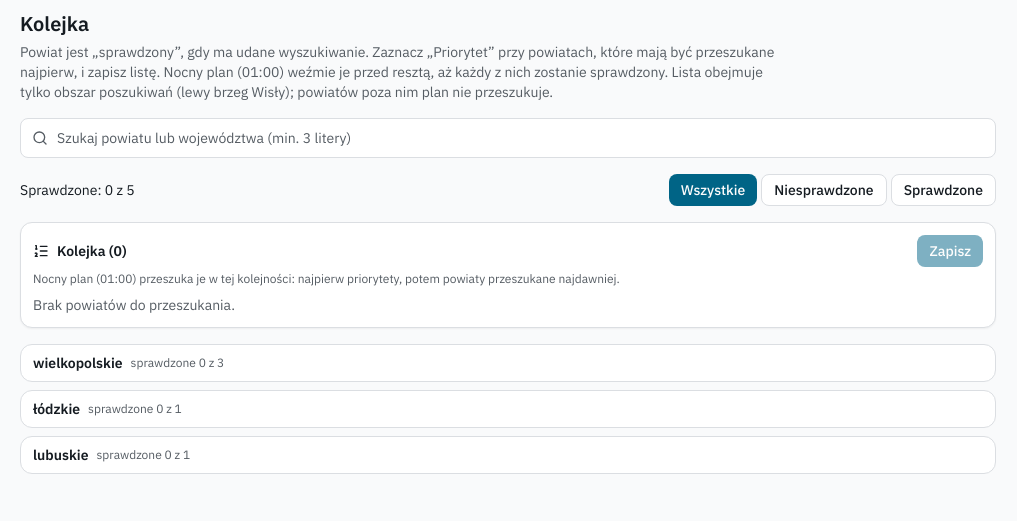
Scenario: PowiatyPage search › restores the full list when the box is cleared
The width and height of the screenshot is (1017, 521).
expect the text "Sprawdzone: 0 z 5" is shown: met, box [20,180,135,200]
Type "kon" into the search field labelled "Szukaj powiatu".
click(508, 138); type("kon")  # box [20,118,996,158]
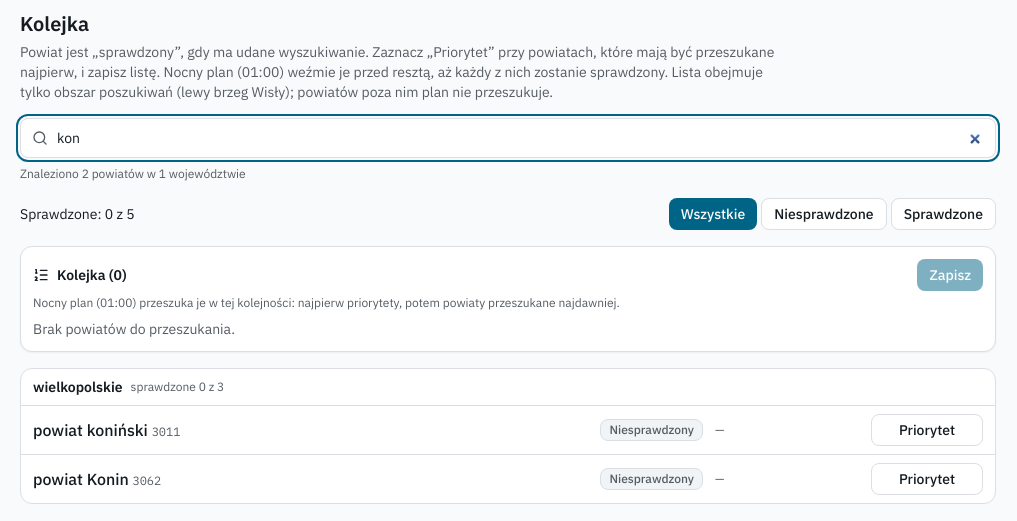
Clear the search field named "Szukaj powiatu" at (508, 138), box [20,118,996,158]
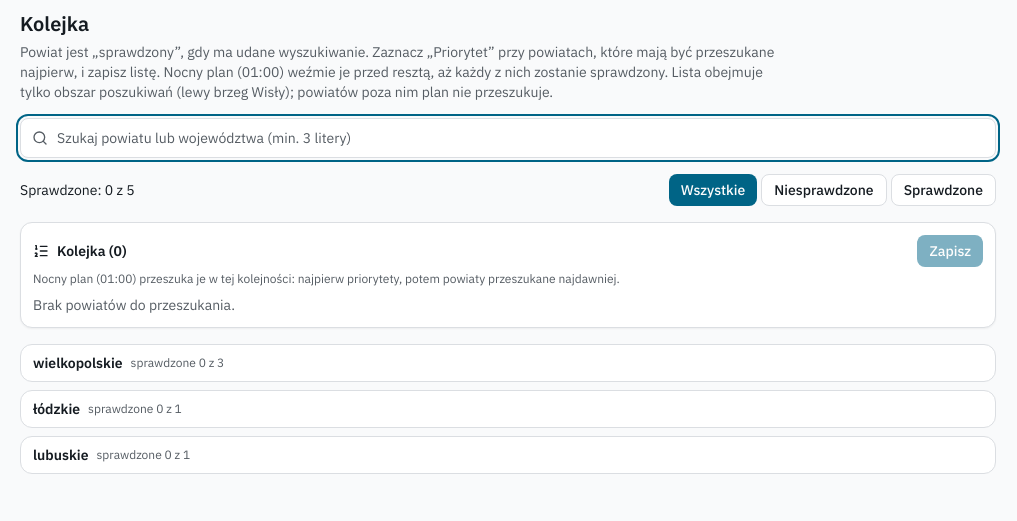
expect the number of elements with test id "voivodeship" is 3: met, box [20,344,996,382]; [20,390,996,428]; [20,436,996,474]
expect the message with test id "search-summary" is gone: met
